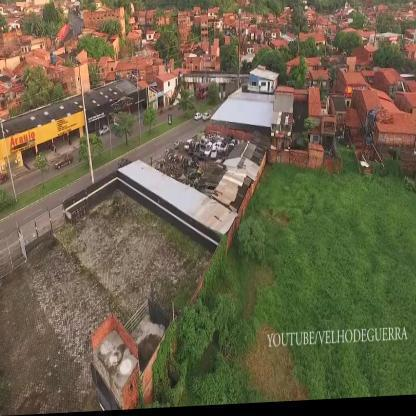lixo: (189, 133, 234, 167), (165, 151, 203, 181)
